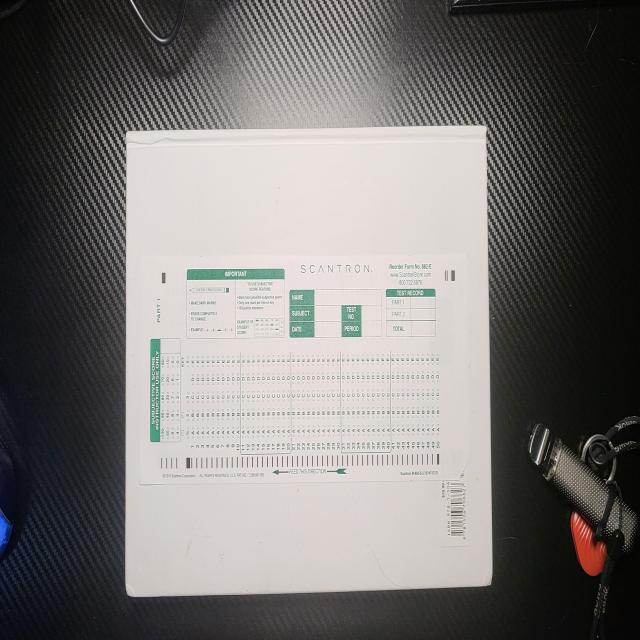scantron: (140, 252, 471, 483)
